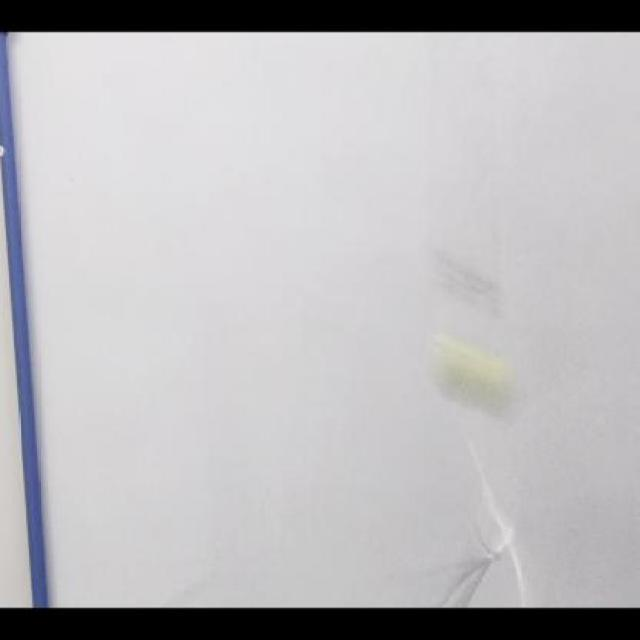baseball: (453, 332, 498, 423)
